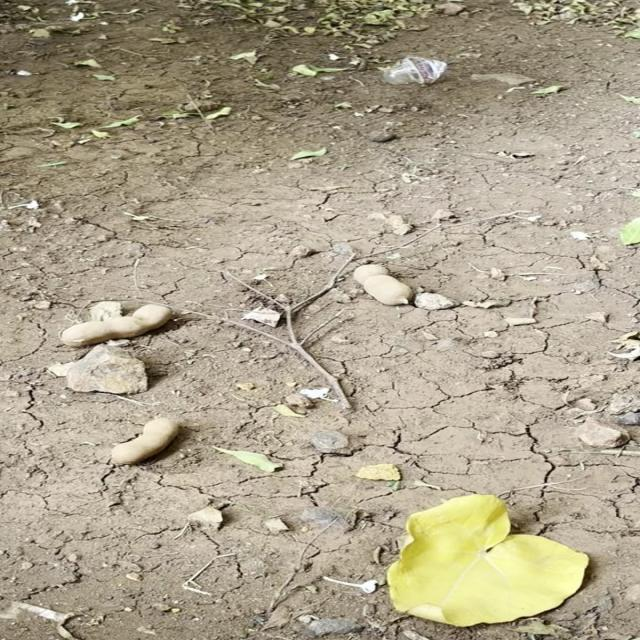tamarind: (57, 302, 178, 346), (342, 261, 420, 309), (105, 415, 179, 465)
